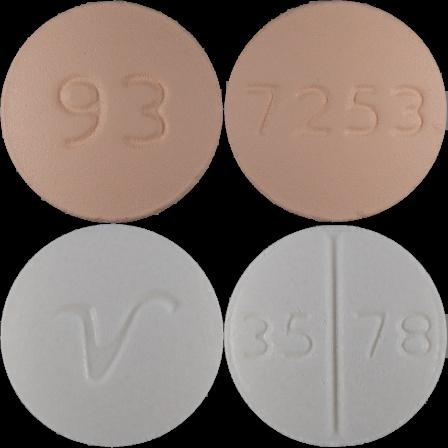68151-3977: (0, 0, 224, 224)
